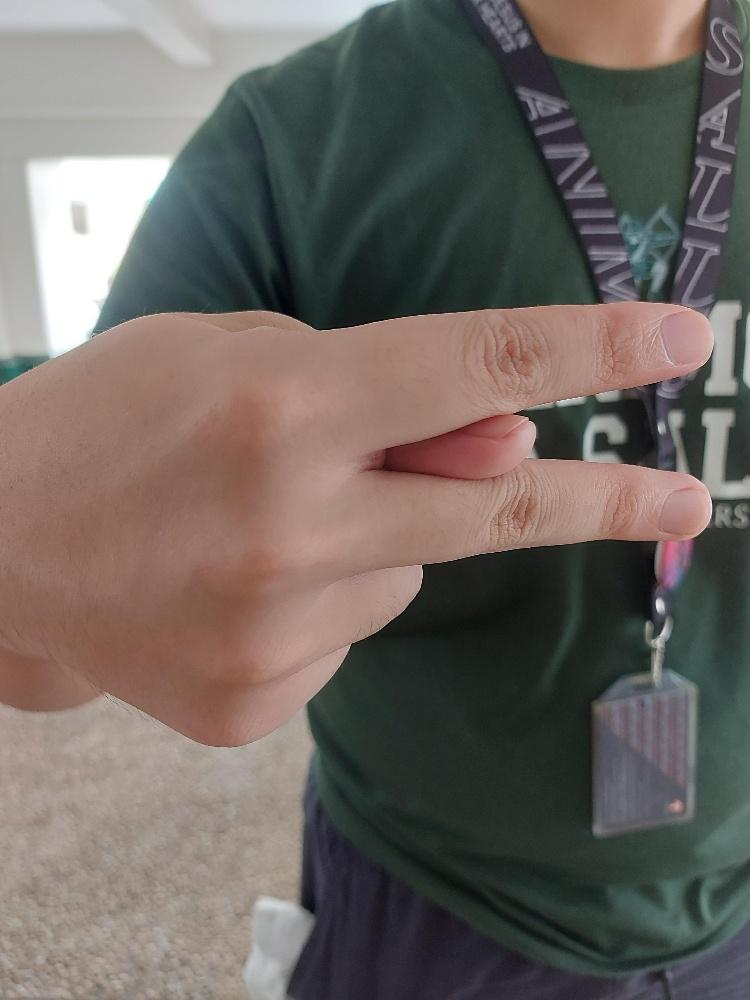k: (0, 297, 717, 745)
